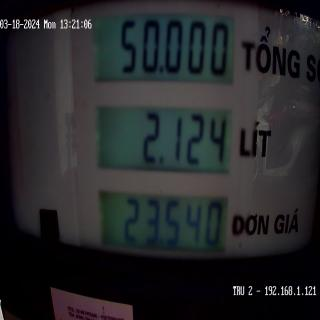screen: (90, 3, 240, 278)
